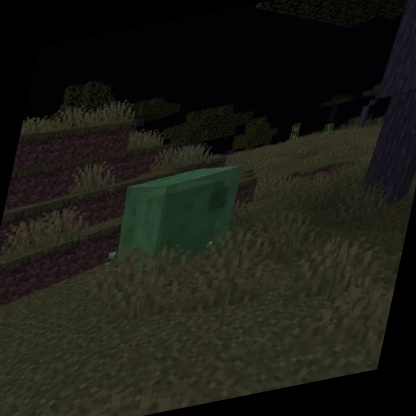slime: (101, 154, 252, 285)
